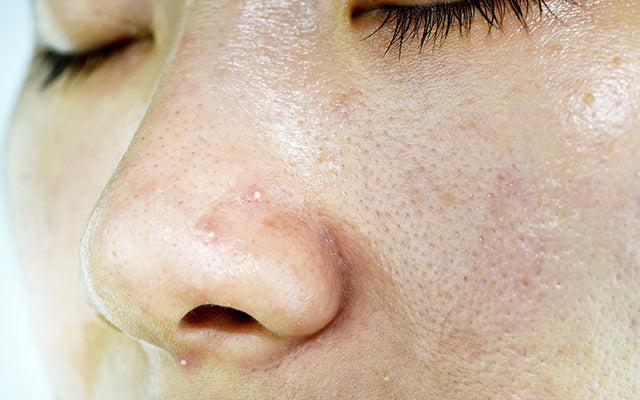Englarged-Pores: (159, 65, 493, 300)
Oily-Skin: (43, 17, 596, 395)
